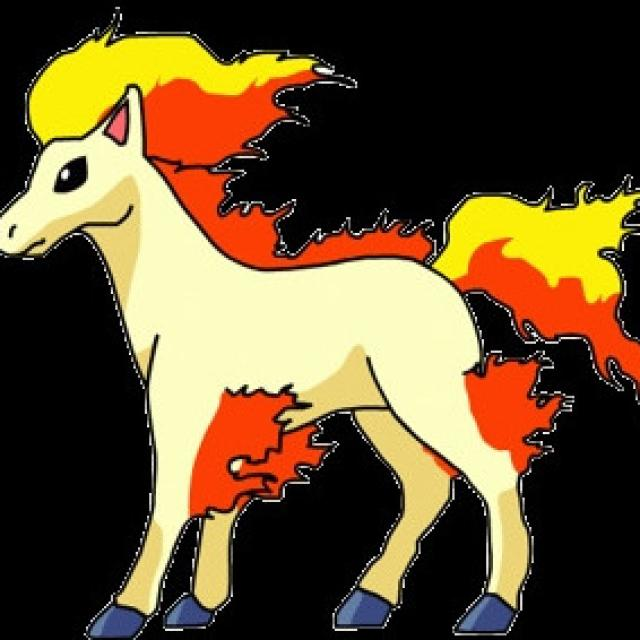Ponyta: (24, 35, 546, 572)
